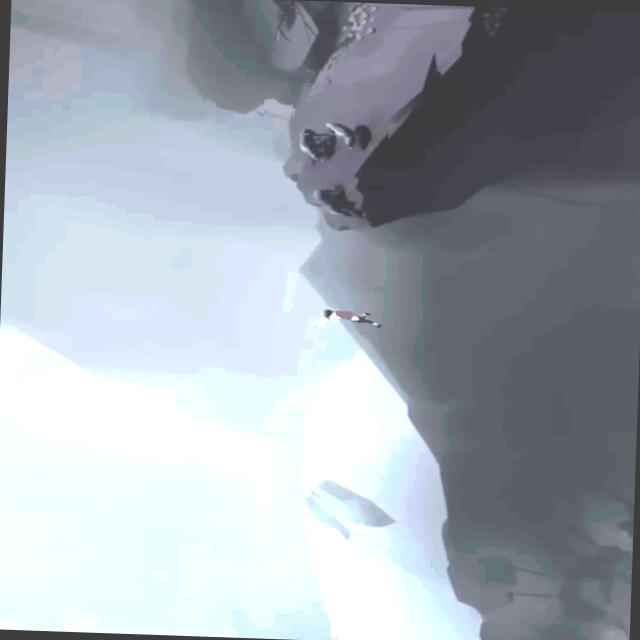boy: (318, 308, 381, 326)
